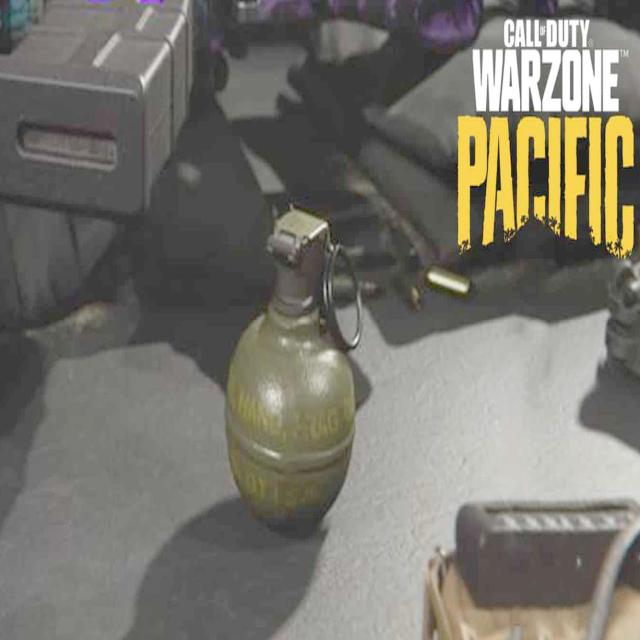grenade: (226, 209, 363, 536)
